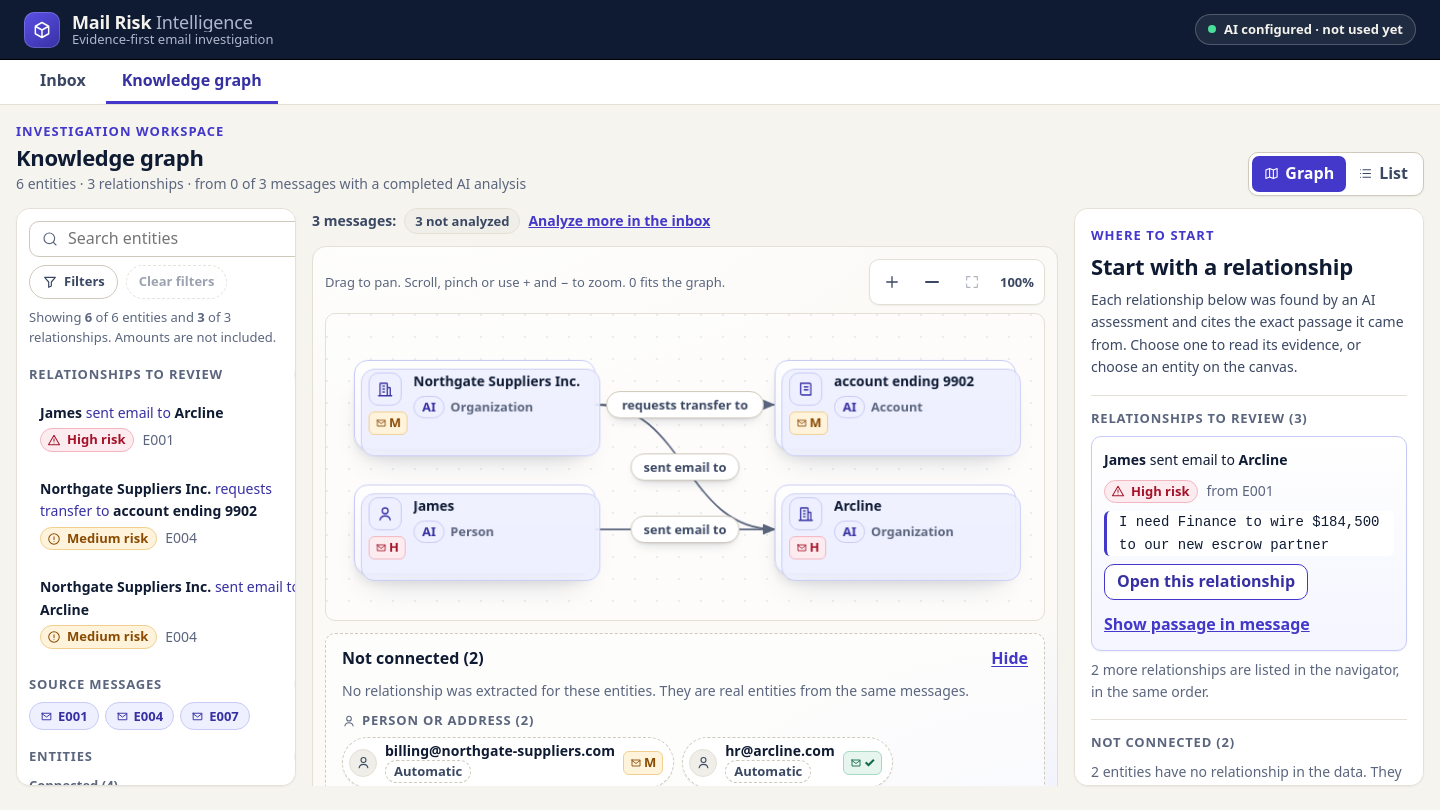
Test: selection and inspector › labels an automatic (rules) entity as such and never as AI-identified
The image size is (1440, 810).
Expected: the text "6 entities · 3 relationships" is shown, [16, 174, 526, 193]
Click the button with aria-label "Person or address hr@arcline.com".
click(788, 763)  # box [682, 737, 893, 788]
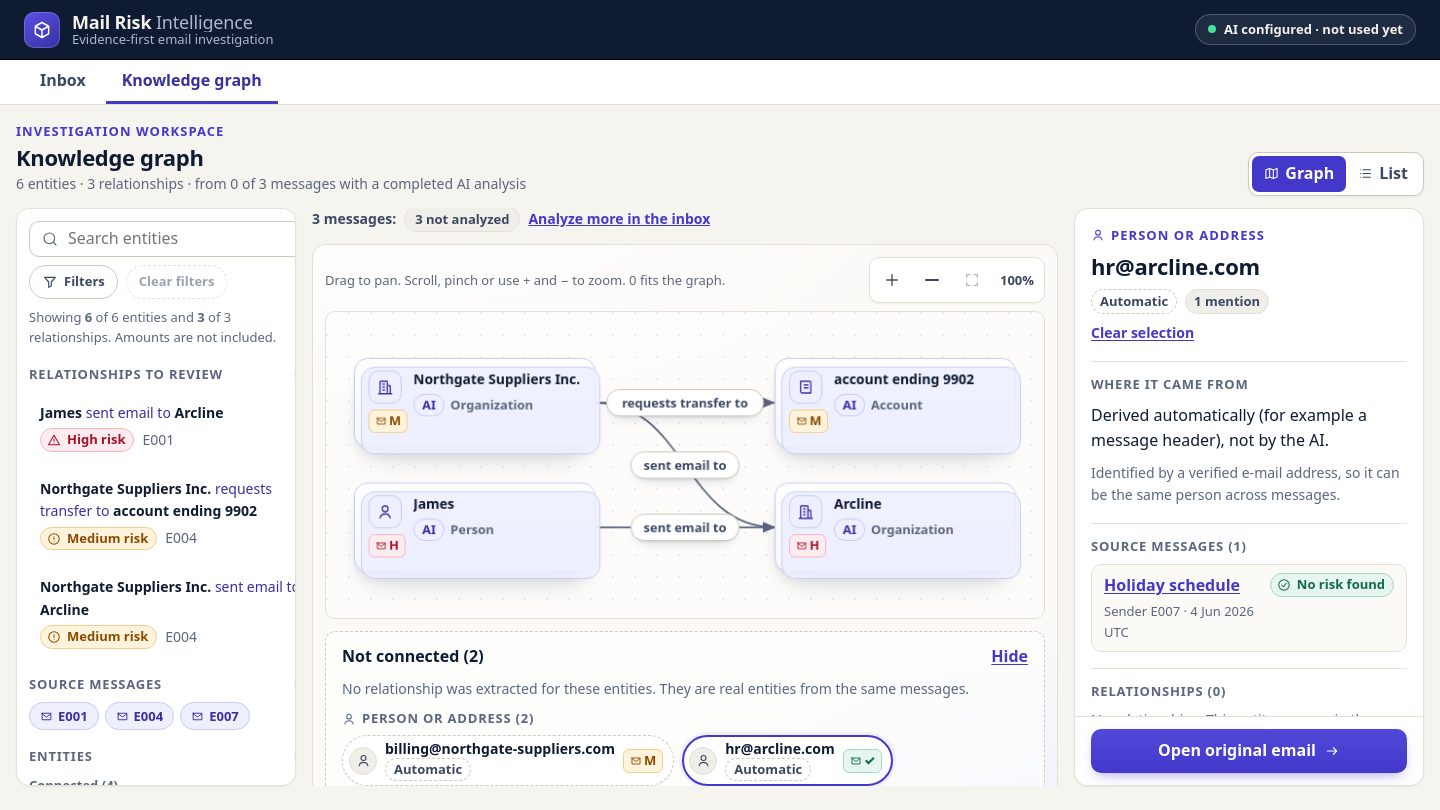
Now the text "Automatic" next to "1 mention" is shown, box [1100, 292, 1168, 310]
